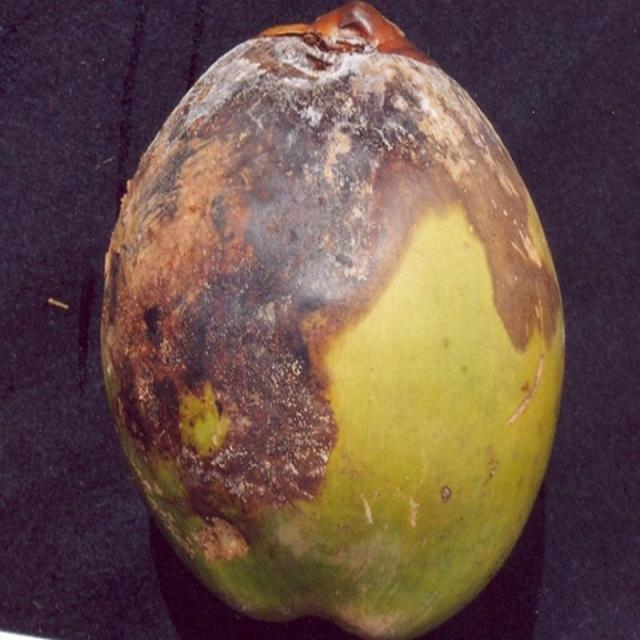damaged: (99, 4, 567, 639)
